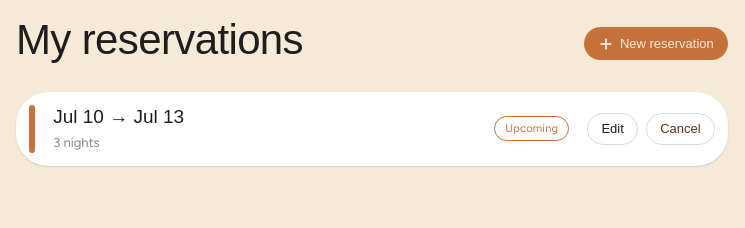
Test: CAP-024 Change or cancel a reservation — from My reservations › CAP-024 · I cancel my stay (it no longer appears on My reservations)
This screenshot has width=745, height=228.
Expected: the heading "My reservations" is shown, x1=16 y1=16 x2=303 y2=63
Click the button "Cancel" at (680, 129), box x1=646 y1=113 x2=715 y2=145
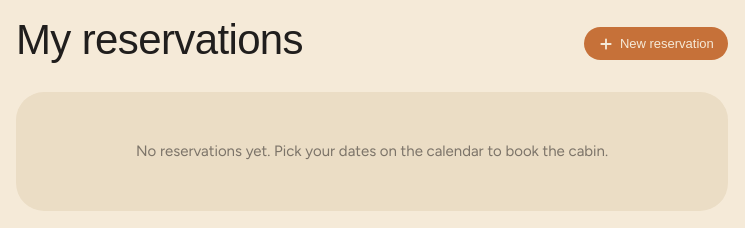
Result: no elements with class "rowcard" are shown
